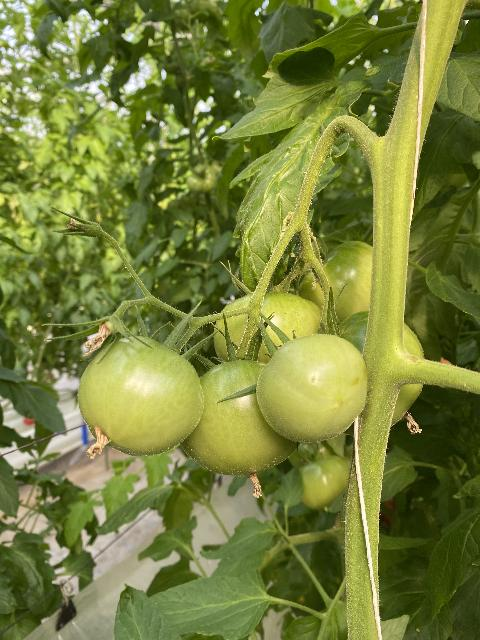b_green: (77, 337, 204, 457), (180, 359, 302, 477), (256, 334, 367, 444), (330, 310, 425, 437), (214, 292, 335, 363), (299, 240, 373, 329)
